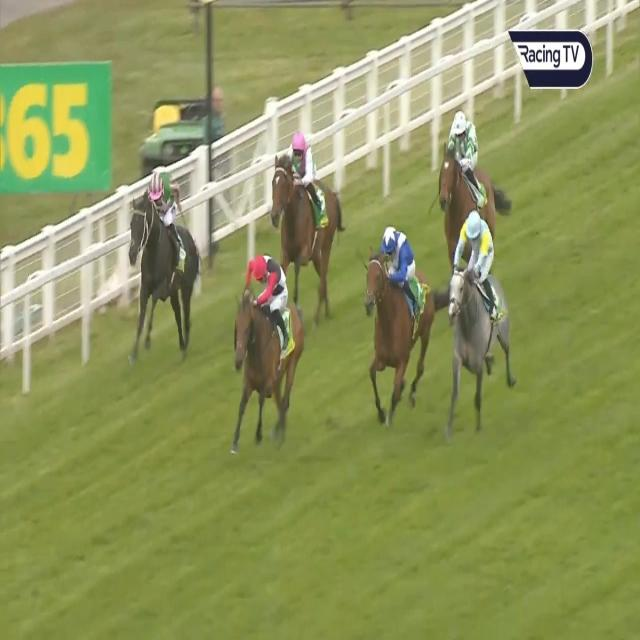horses-racing: (448, 211, 524, 464), (227, 238, 323, 438), (124, 166, 206, 348), (361, 215, 430, 423), (268, 126, 348, 294), (427, 116, 503, 244)
